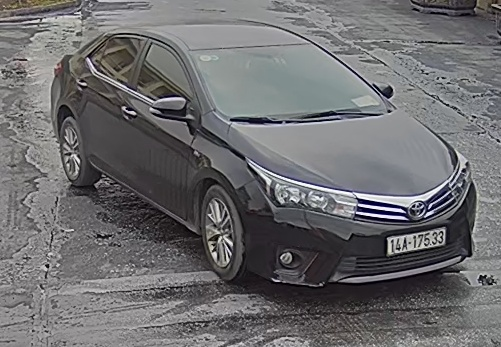vehicle plate: (382, 229, 450, 258)
